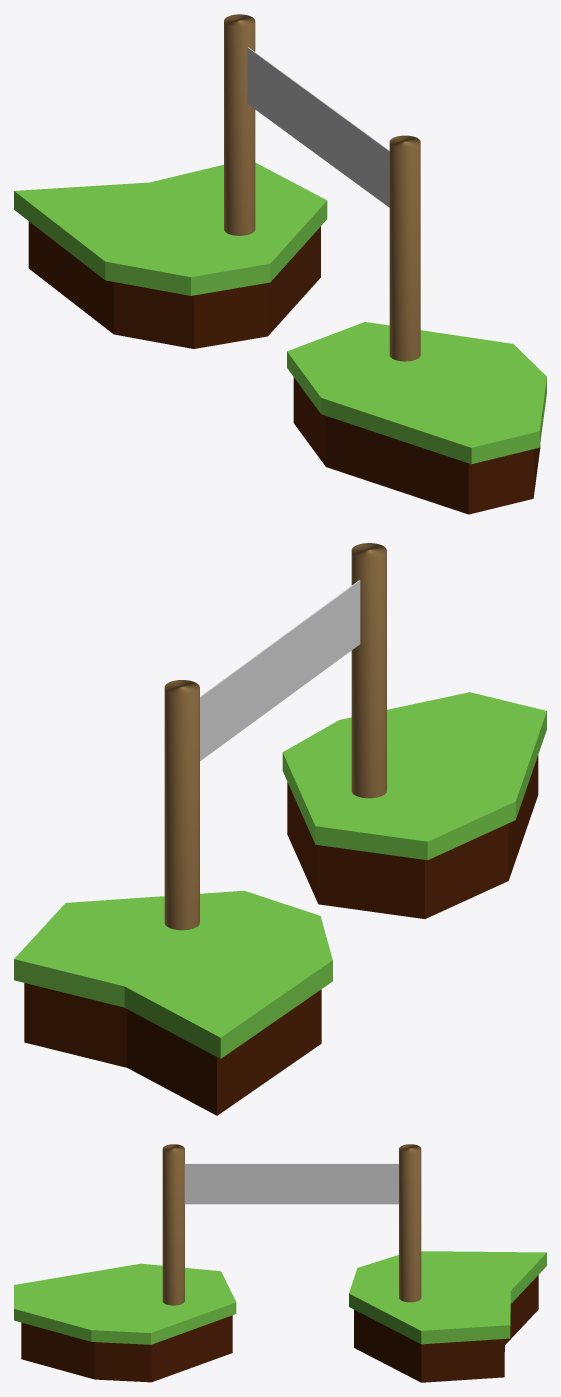
Rendered from ligne d'arrivee.fbx.
The picture shows the model from 3 angles, top to bottom: view 1: azimuth 30°, elevation 25°; view 2: azimuth 150°, elevation 25°; view 3: azimuth 270°, elevation 25°; orthographic projection. The views are drawn at different scales.
Visible parts, largest first — view 1: Terre 1.000, Terre.001, Herbe, Terre, Cube, Cylinder.001, Cylinder; view 2: Terre 1.000, Terre.001, Herbe, Terre, Cube, Cylinder, Cylinder.001; view 3: Terre 1.000, Terre.001, Cube, Terre, Herbe, Cylinder.001, Cylinder.
Part boxes in pixels (x1=…): Terre 1.000: x1=14, y1=162, x2=327, y2=295; Terre.001: x1=287, y1=322, x2=546, y2=464; Herbe: x1=28, y1=221, x2=320, y2=348; Terre: x1=293, y1=377, x2=540, y2=514; Cube: x1=247, y1=47, x2=389, y2=207; Cylinder.001: x1=389, y1=135, x2=420, y2=361; Cylinder: x1=224, y1=14, x2=255, y2=235; Terre 1.000: x1=14, y1=890, x2=332, y2=1058; Terre.001: x1=282, y1=692, x2=546, y2=860; Herbe: x1=24, y1=983, x2=321, y2=1115; Terre: x1=287, y1=755, x2=538, y2=918; Cube: x1=200, y1=580, x2=360, y2=760; Cylinder: x1=164, y1=680, x2=199, y2=930; Cylinder.001: x1=351, y1=543, x2=386, y2=798; Terre 1.000: x1=349, y1=1251, x2=546, y2=1344; Terre.001: x1=14, y1=1263, x2=236, y2=1344; Cube: x1=184, y1=1163, x2=398, y2=1204; Terre: x1=21, y1=1315, x2=232, y2=1382; Herbe: x1=354, y1=1275, x2=538, y2=1382; Cylinder.001: x1=162, y1=1144, x2=184, y2=1305; Cylinder: x1=399, y1=1144, x2=421, y2=1302.
Size of the model in its own units: 851 by 1007 by 2398.
